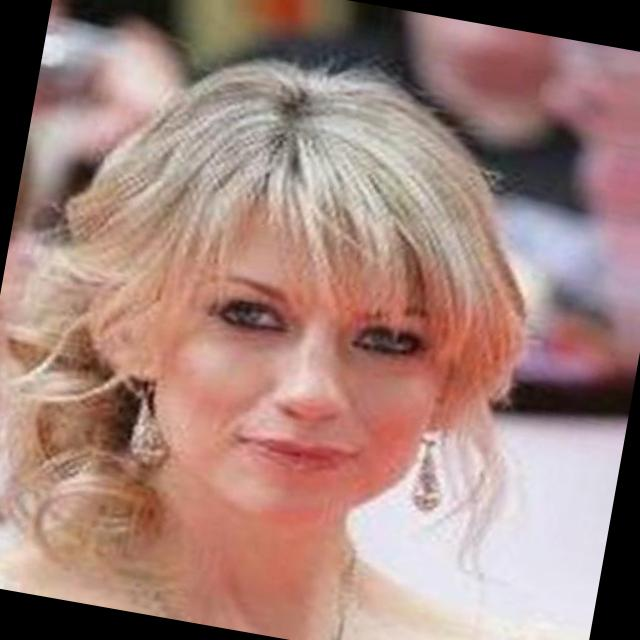bareface: (101, 63, 544, 554)
